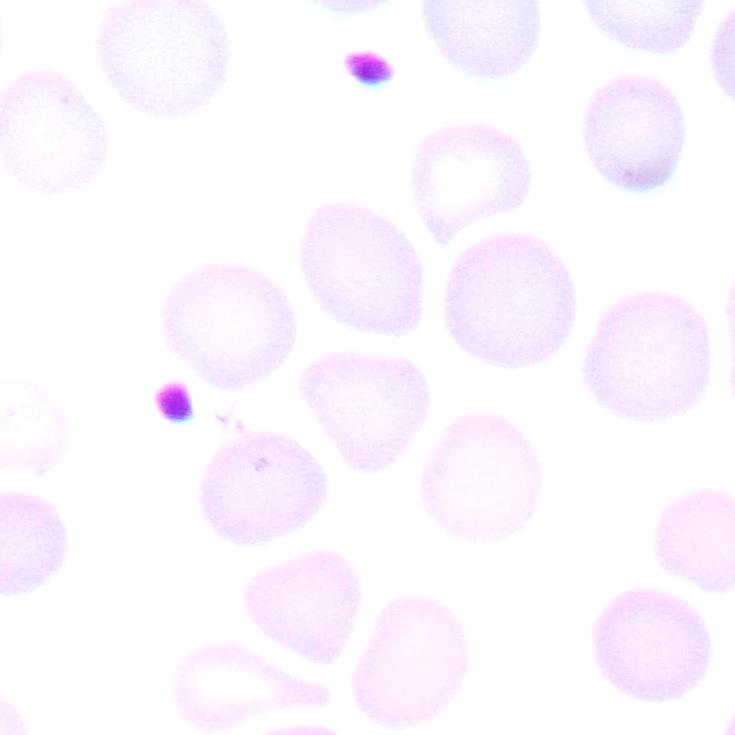Uninfected: (445, 234, 575, 366), (161, 263, 296, 390), (90, 0, 231, 118), (585, 291, 709, 422), (300, 203, 423, 334), (350, 595, 467, 729), (420, 415, 540, 543), (301, 352, 428, 472), (201, 428, 326, 547), (416, 117, 532, 243), (244, 549, 359, 667), (593, 589, 707, 703), (0, 69, 105, 192), (175, 643, 319, 730), (583, 75, 684, 188), (426, 0, 540, 77), (655, 490, 732, 592), (1, 493, 66, 593)
